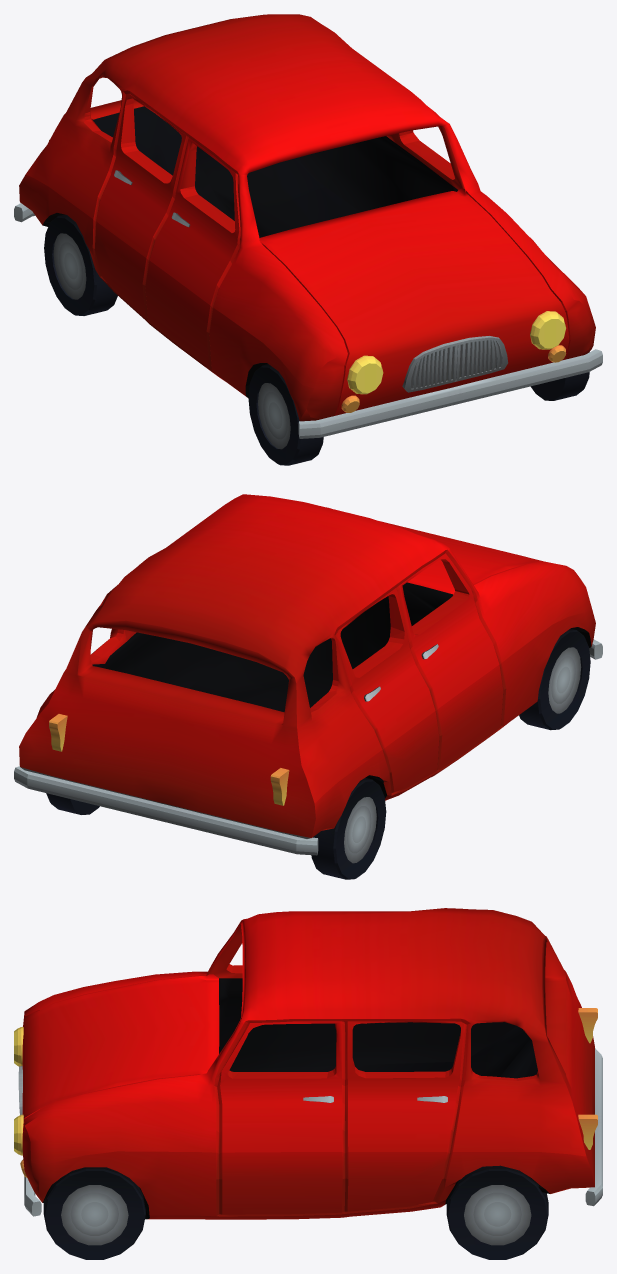
File: renault4.FBX
The picture shows the model from 3 angles, top to bottom: view 1: azimuth 30°, elevation 25°; view 2: azimuth 150°, elevation 25°; view 3: azimuth 270°, elevation 25°; orthographic projection.
Visible parts, largest first — view 1: Sphere001; view 2: Sphere001; view 3: Sphere001.
Part boxes in pixels (x1,y1,x2,y2): Sphere001: [14, 14, 602, 465]; Sphere001: [14, 494, 602, 879]; Sphere001: [14, 908, 602, 1259].
Size of the model in its own units: 120 by 96.11 by 204.
